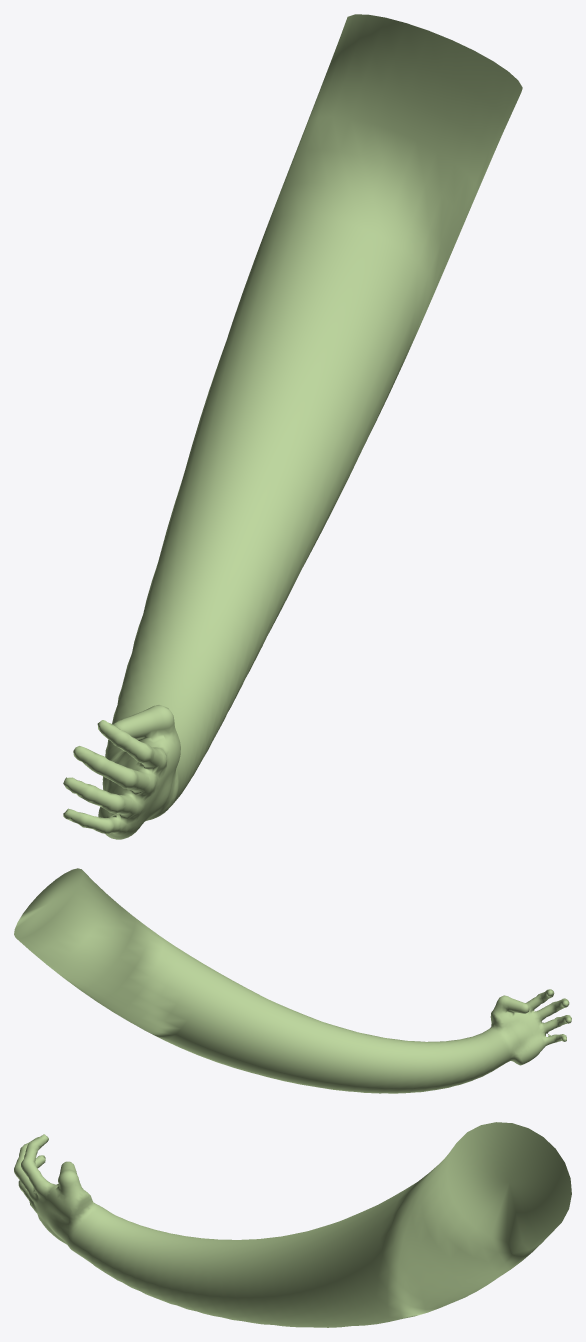
Rendered from gobhi-display-grip.glb.
The picture shows the model from 3 angles, top to bottom: view 1: azimuth 30°, elevation 25°; view 2: azimuth 150°, elevation 25°; view 3: azimuth 270°, elevation 25°; orthographic projection. The views are drawn at different scales.
Visible parts, largest first — view 1: arm-grip-right; view 2: arm-grip-right; view 3: arm-grip-right.
Part boxes in pixels (<box>): arm-grip-right: <box>63,14,522,839</box>; arm-grip-right: <box>14,868,571,1093</box>; arm-grip-right: <box>14,1122,571,1327</box>.
Bounding box in the file's own units: 1.08 × 0.6394 × 0.9719.
